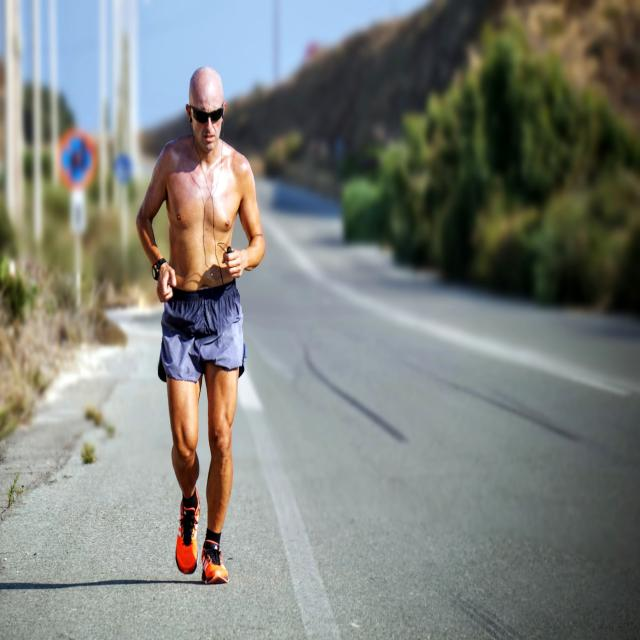adult: (135, 62, 267, 586)
